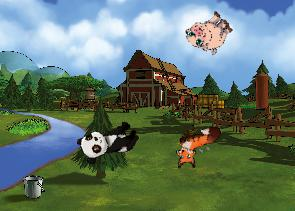fox: (168, 123, 228, 172)
panda: (75, 115, 142, 167)
pig: (181, 4, 237, 60)
